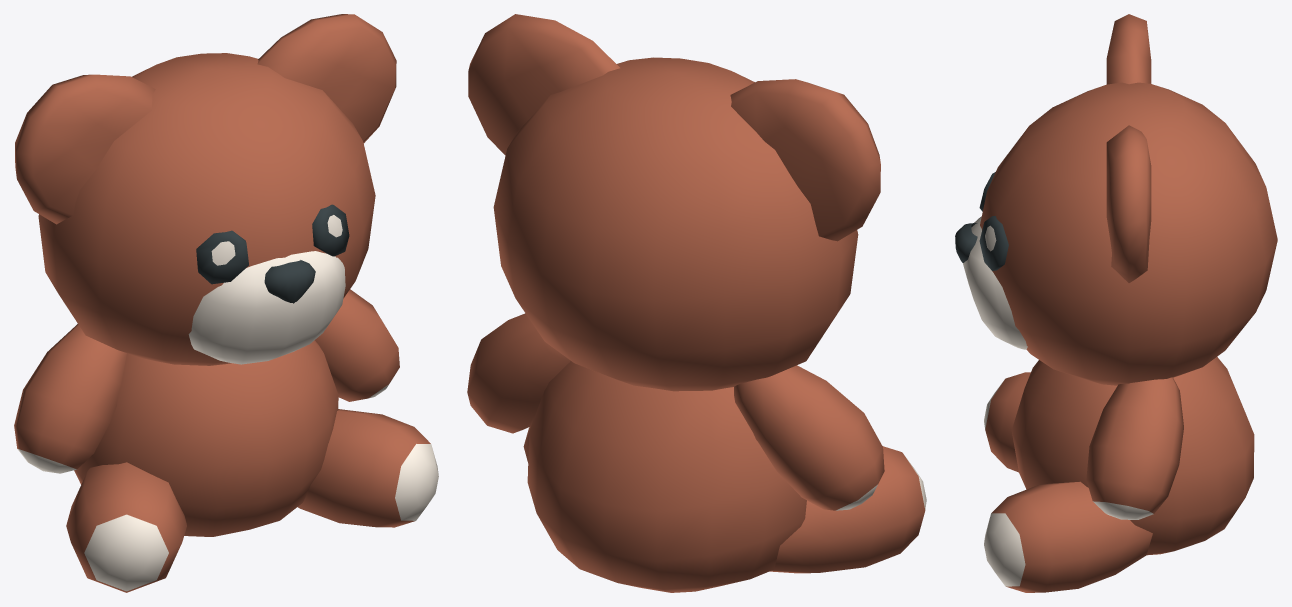
The model's file is TeddyBear_01.fbx.
3 renders of one model, left to right at view 1: azimuth 30°, elevation 25°; view 2: azimuth 150°, elevation 25°; view 3: azimuth 270°, elevation 25°, orthographic. The views are drawn at different scales.
Visible parts, largest first — view 1: TeddyBear_01; view 2: TeddyBear_01; view 3: TeddyBear_01.
Boxes of the visible parts, <box> form: TeddyBear_01: <box>14,14,438,592</box>; TeddyBear_01: <box>467,14,926,592</box>; TeddyBear_01: <box>955,14,1277,592</box>.
Size of the model in its own units: 0.3085 by 0.3706 by 0.2383.
